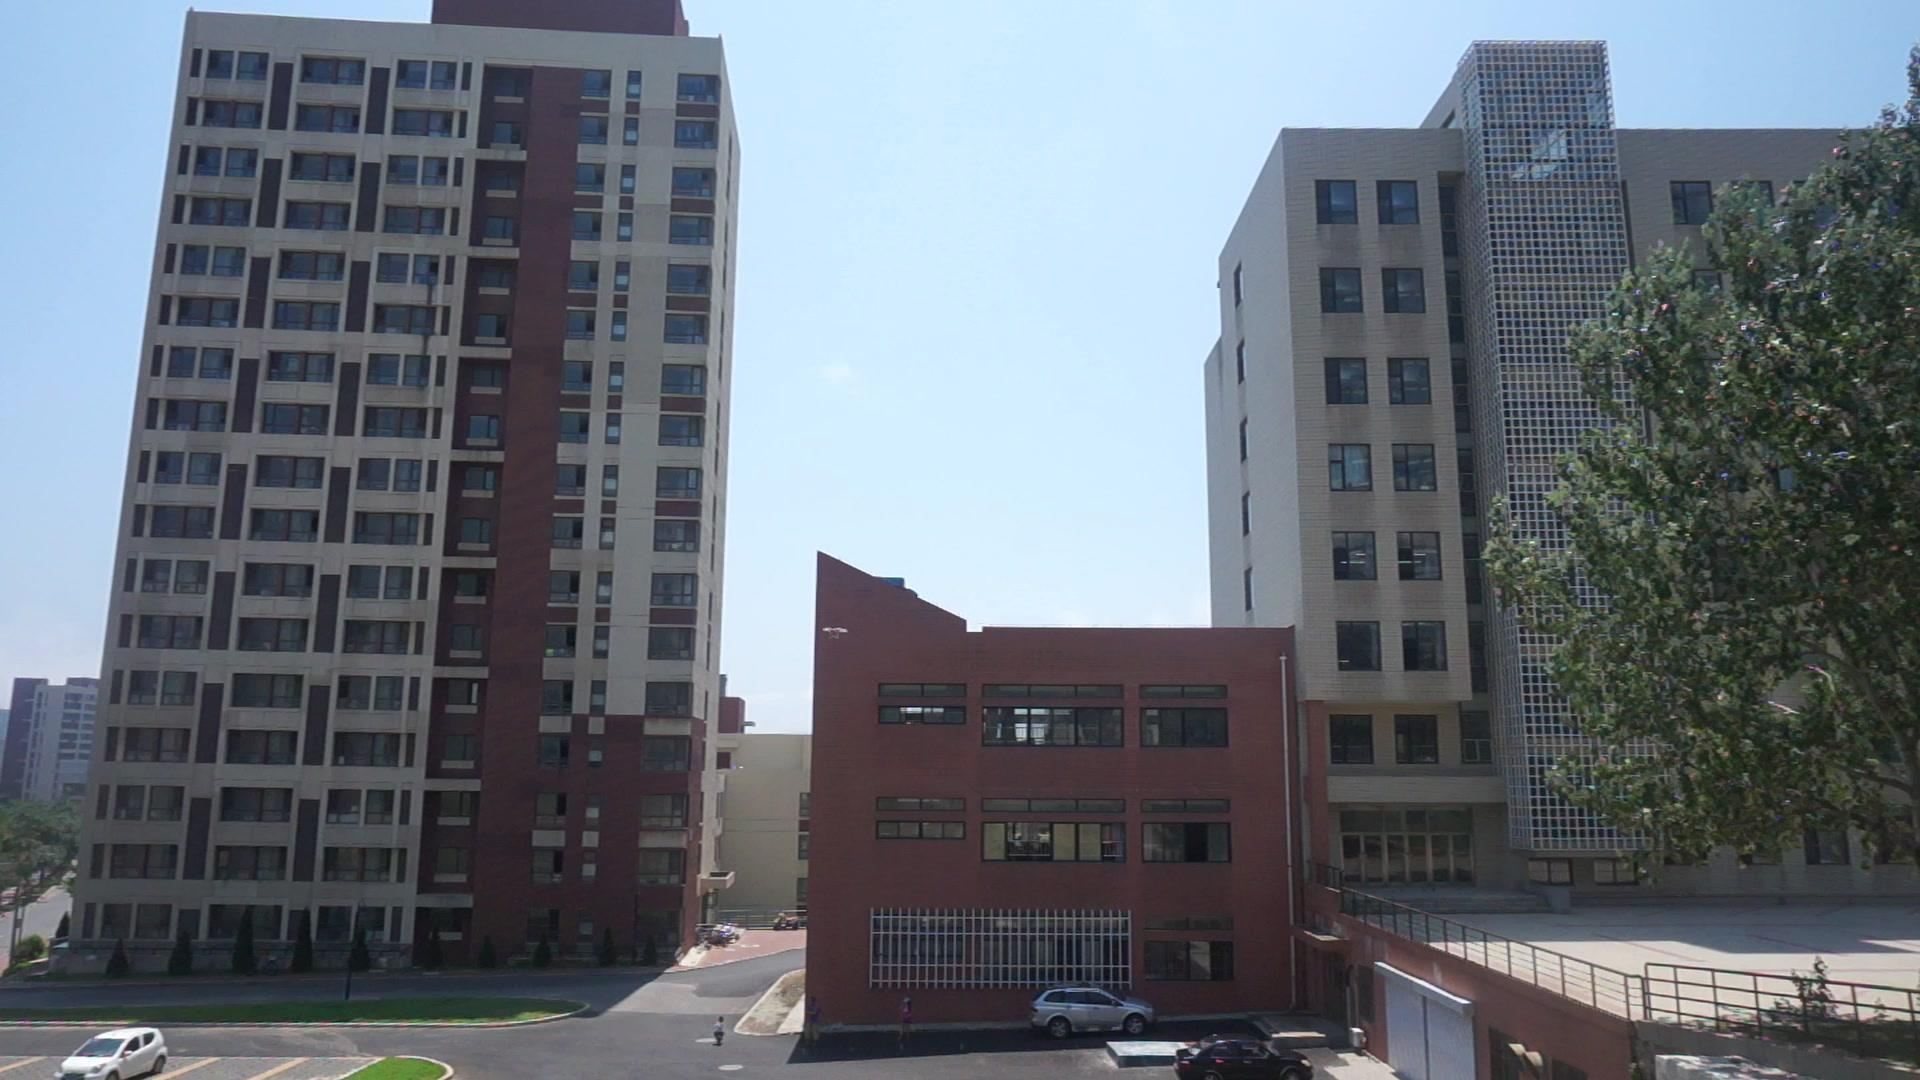UAV: (823, 626, 849, 640)
